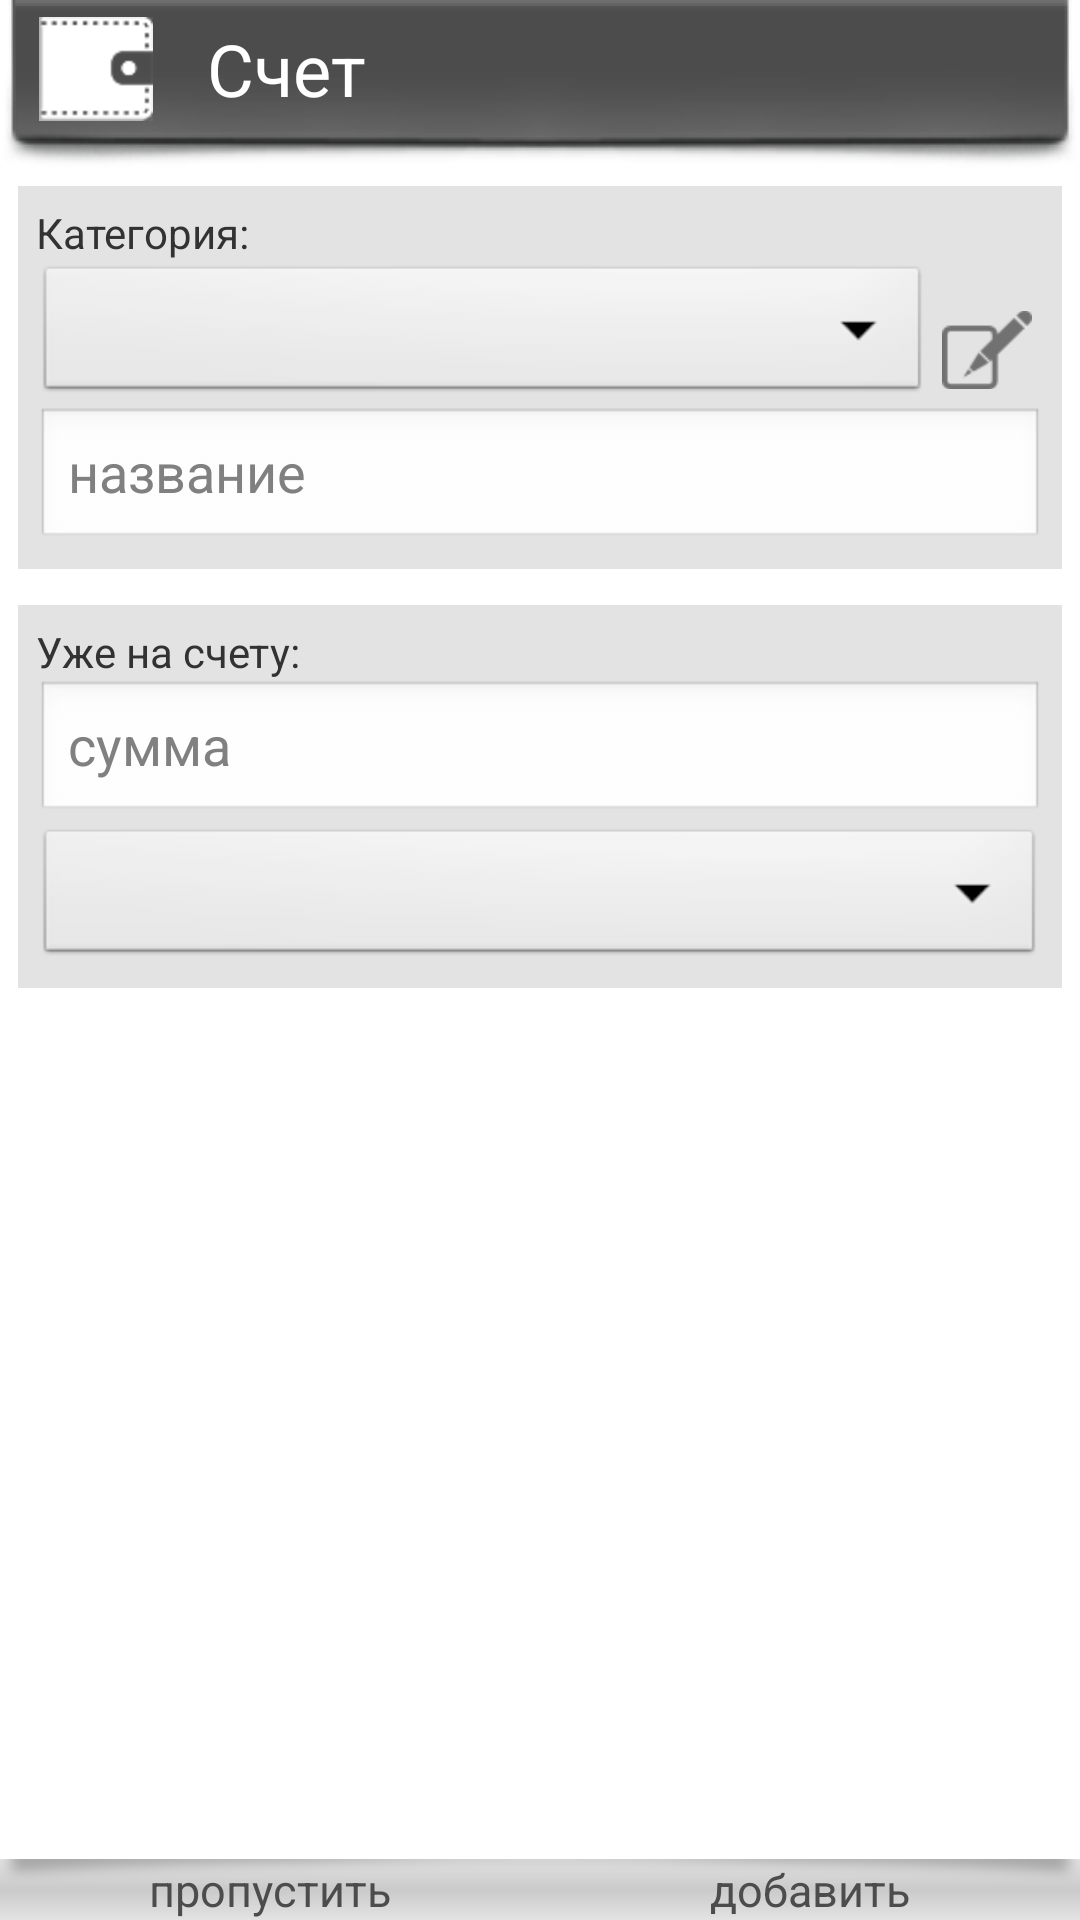

Screen size 1080*1920. Icon name, then its center in pixels as [x,y]:
edit: [987,350]
wallet bw: [96,69]
